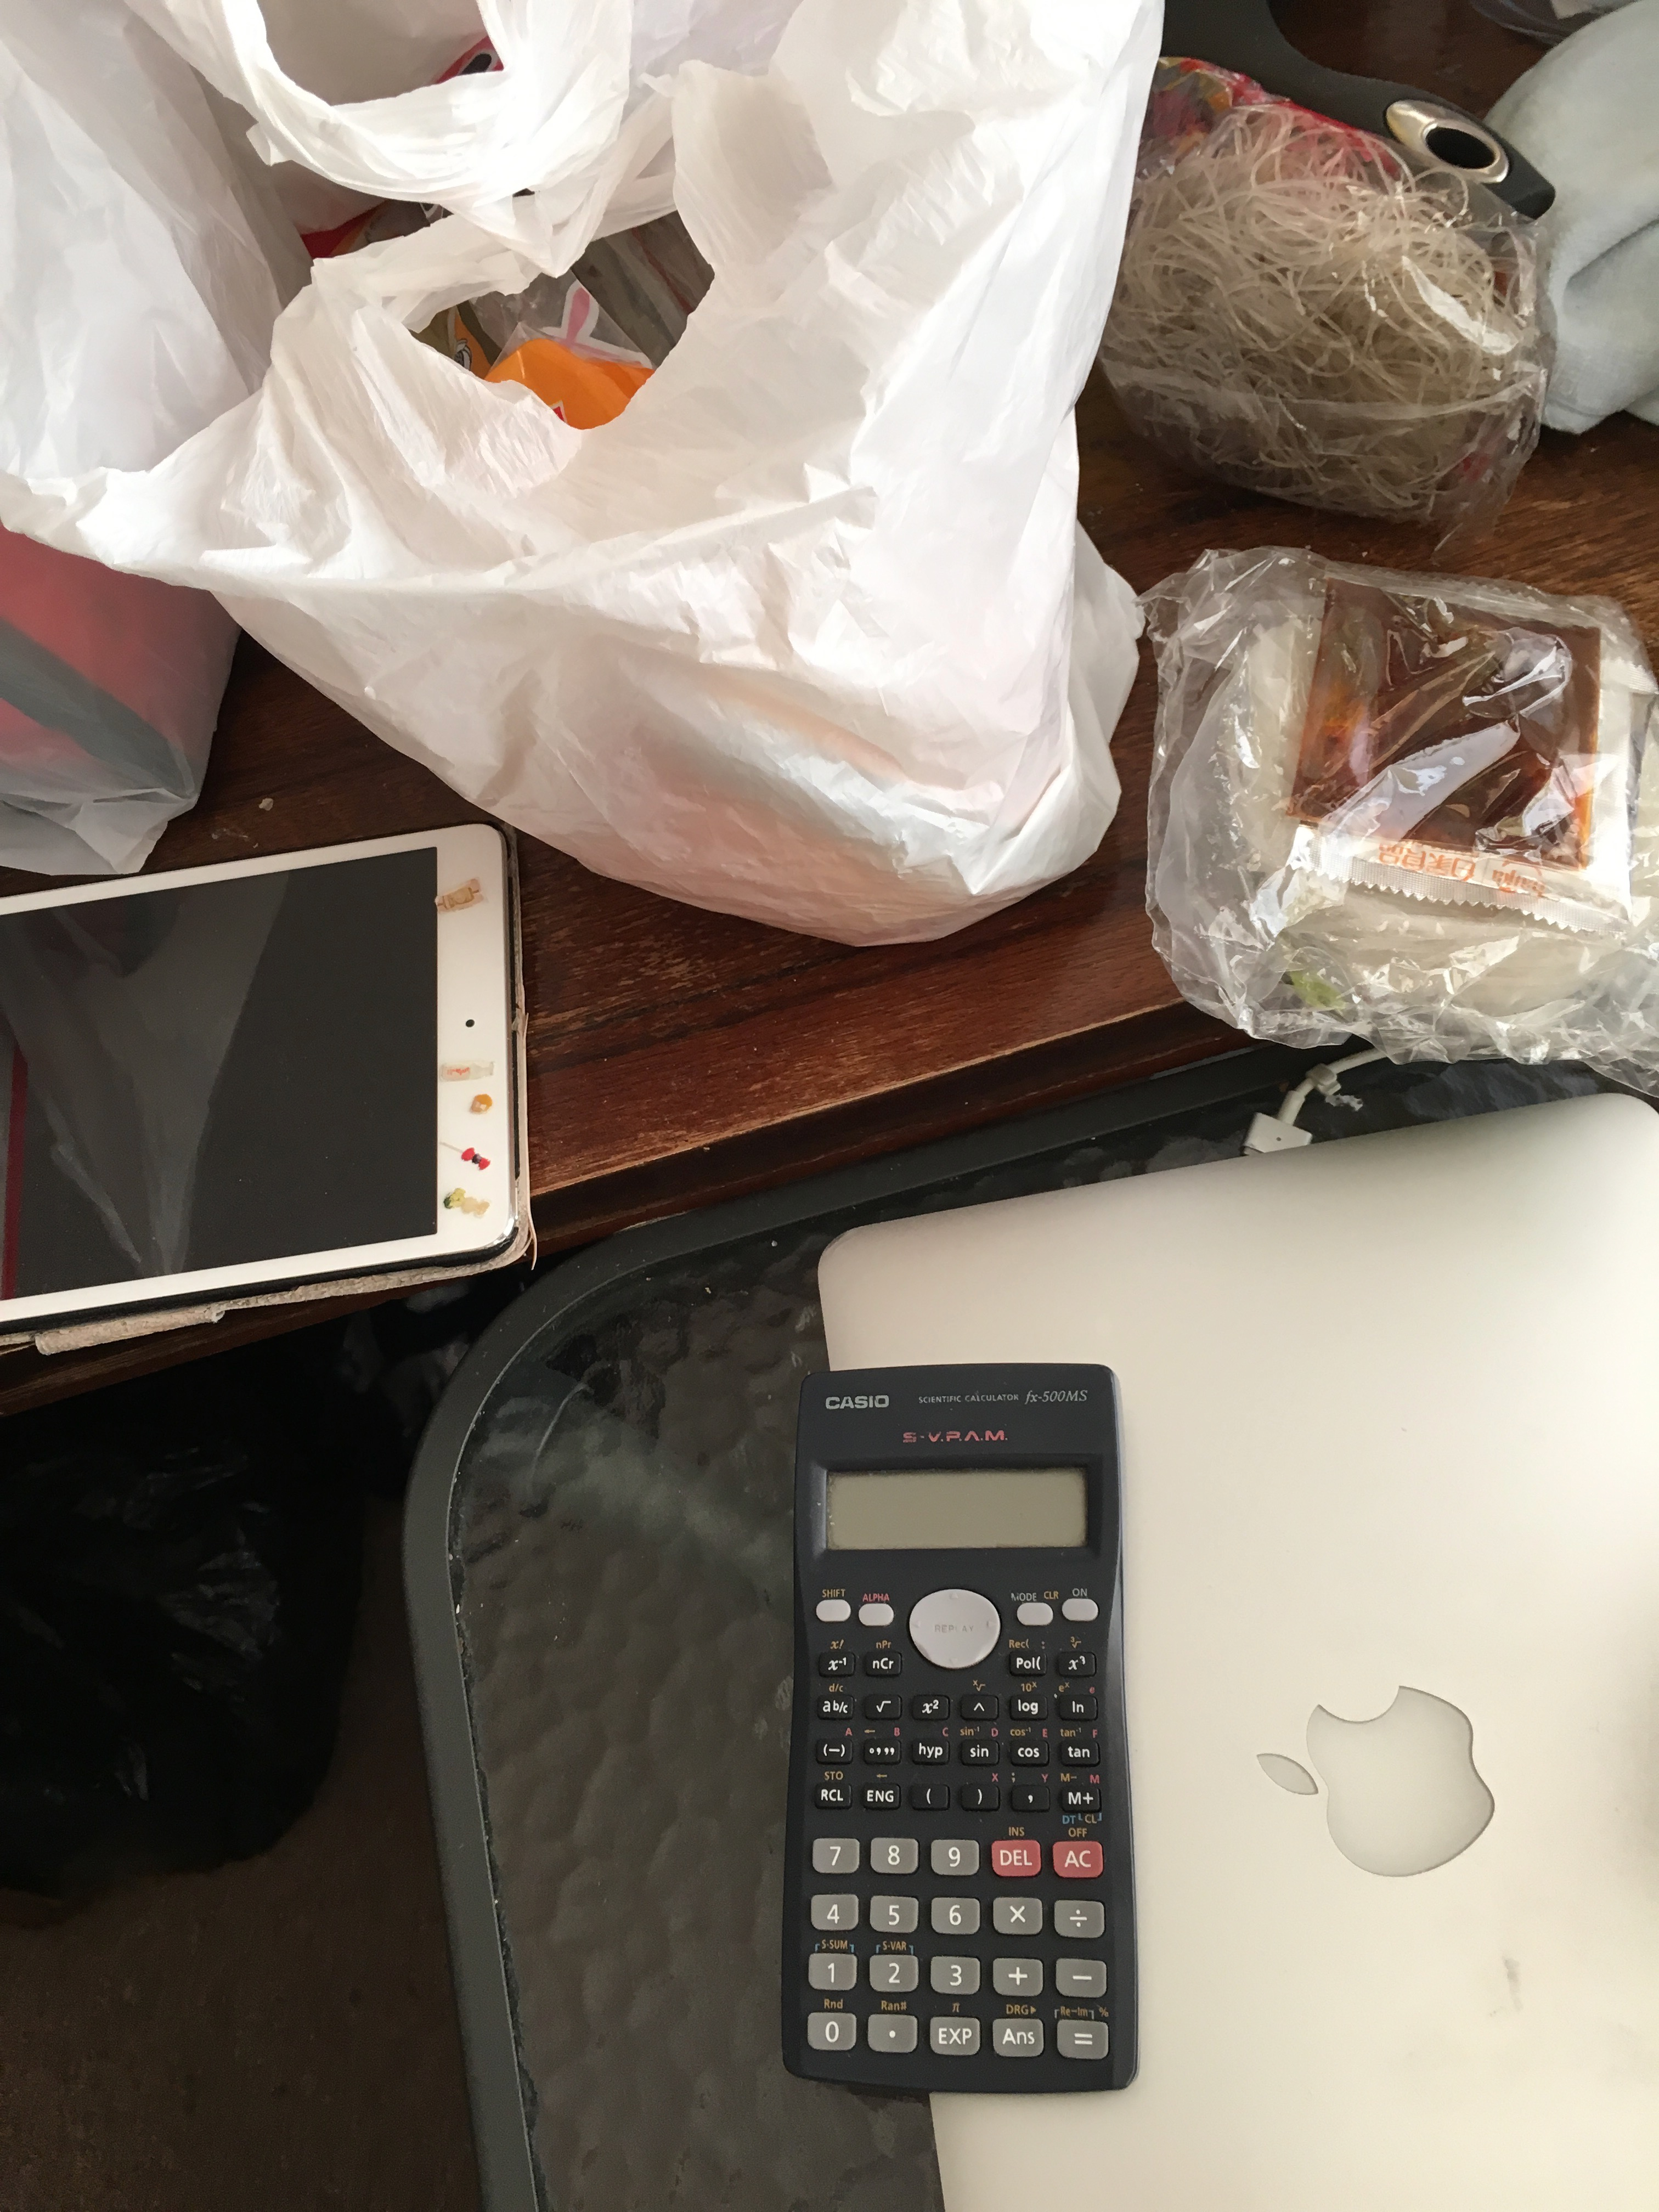Calculator: (772, 1353, 1150, 2107)
